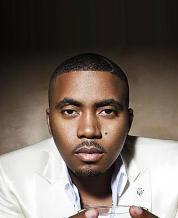face: (59, 99, 117, 162)
